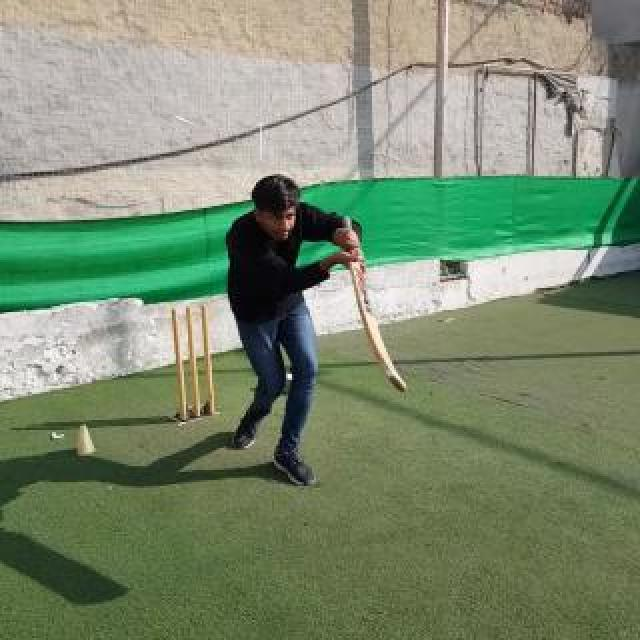bat: (340, 216, 408, 392)
